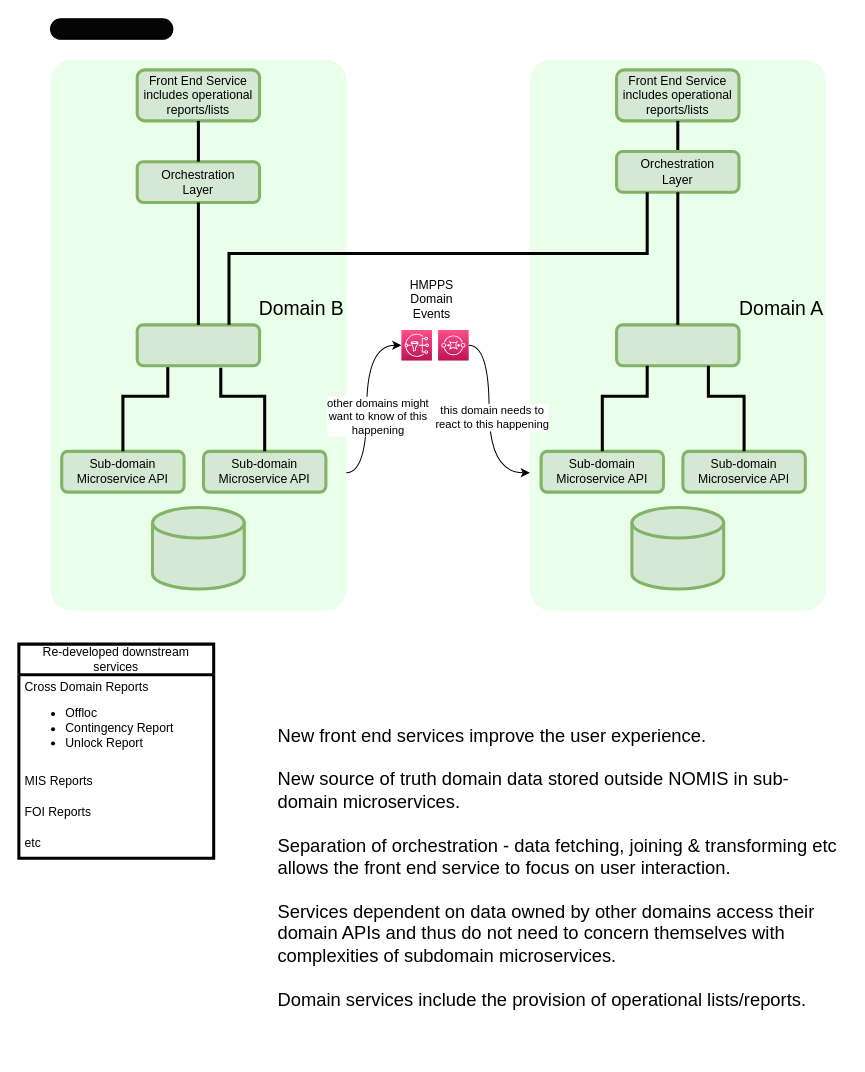
Image size: 865x1072. Some labels were removed from this diagram. The shapes that lost their labels are listed below. From the top down, each one's centre as x and y in pixels, then its label:
At pixel 111 28: "Stage 5".
At pixel 198 345: "Domain B API".
At pixel 677 345: "Domain A API".
At pixel 197 547: "Domain A Data".
At pixel 677 547: "Domain B Data".
